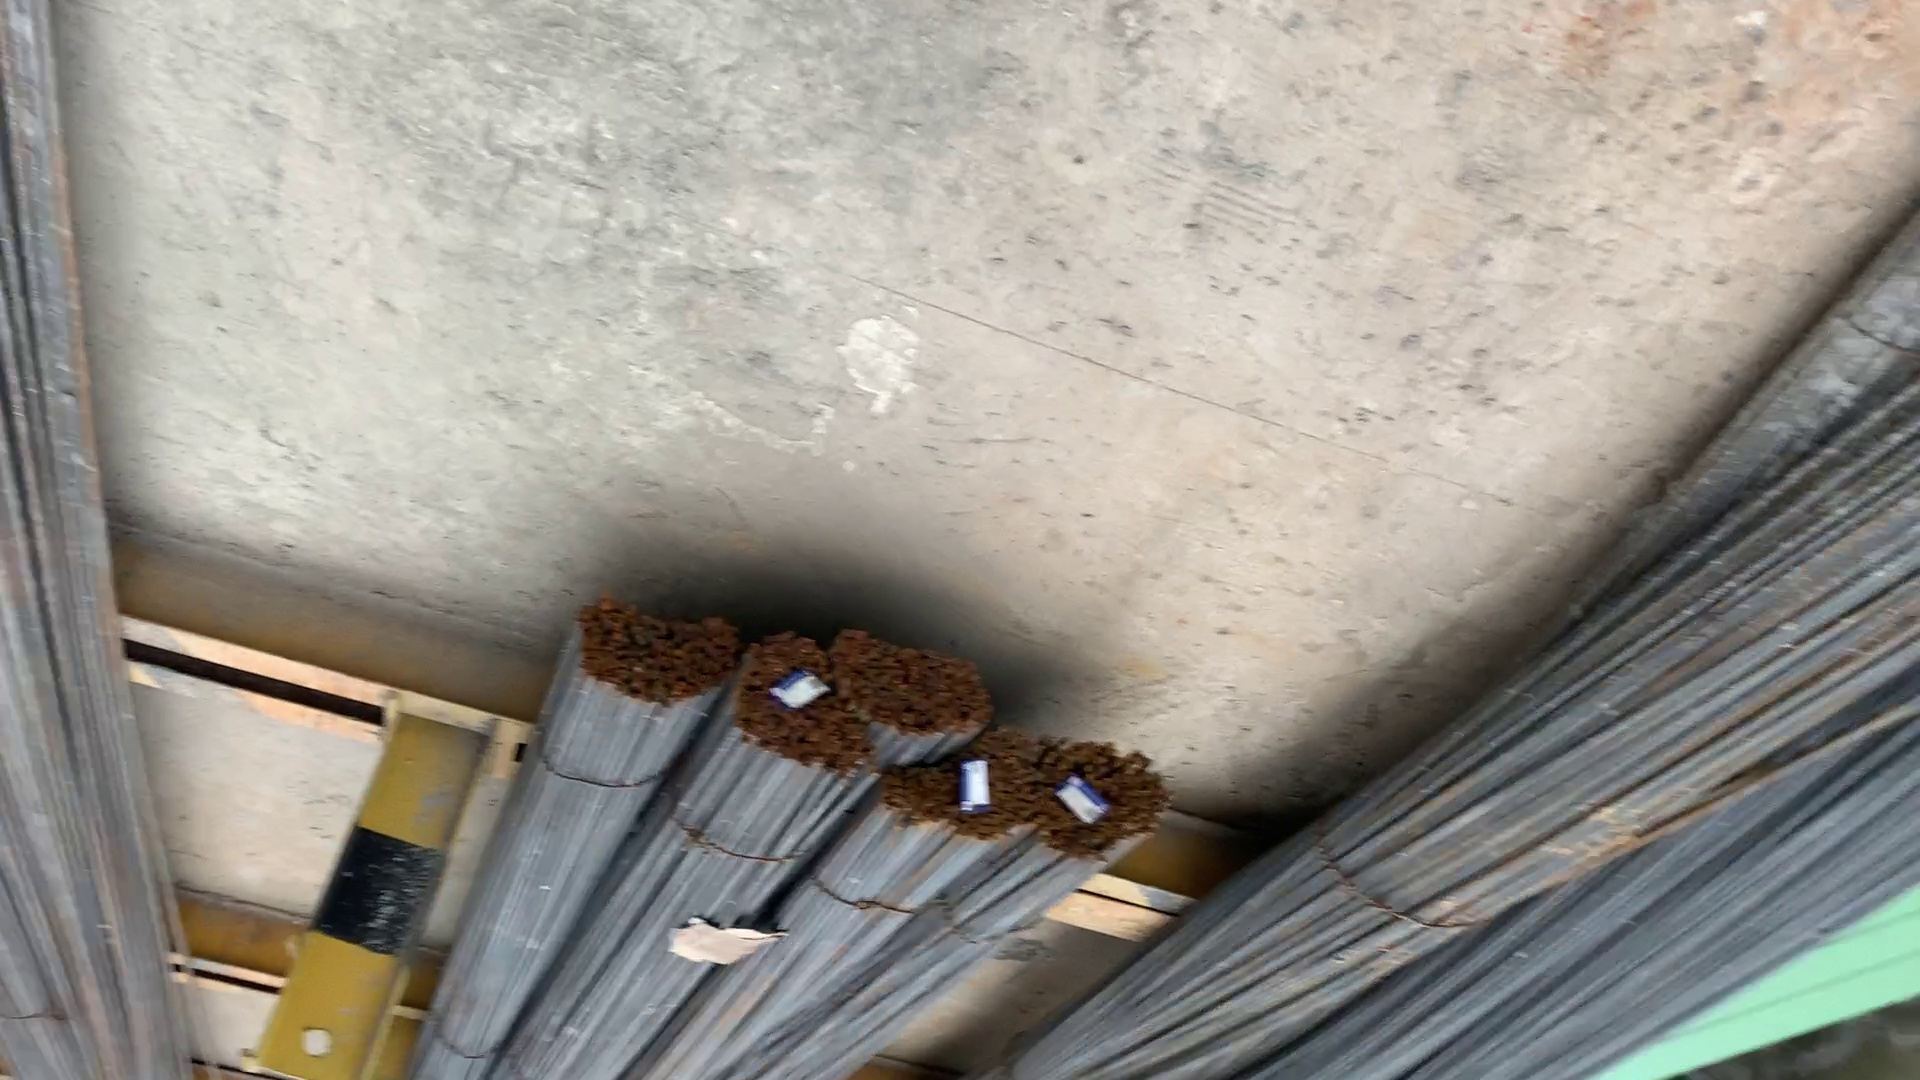rebar: (738, 641, 858, 775), (837, 641, 989, 742), (576, 607, 731, 703), (891, 748, 1044, 839), (1046, 749, 1174, 855)
